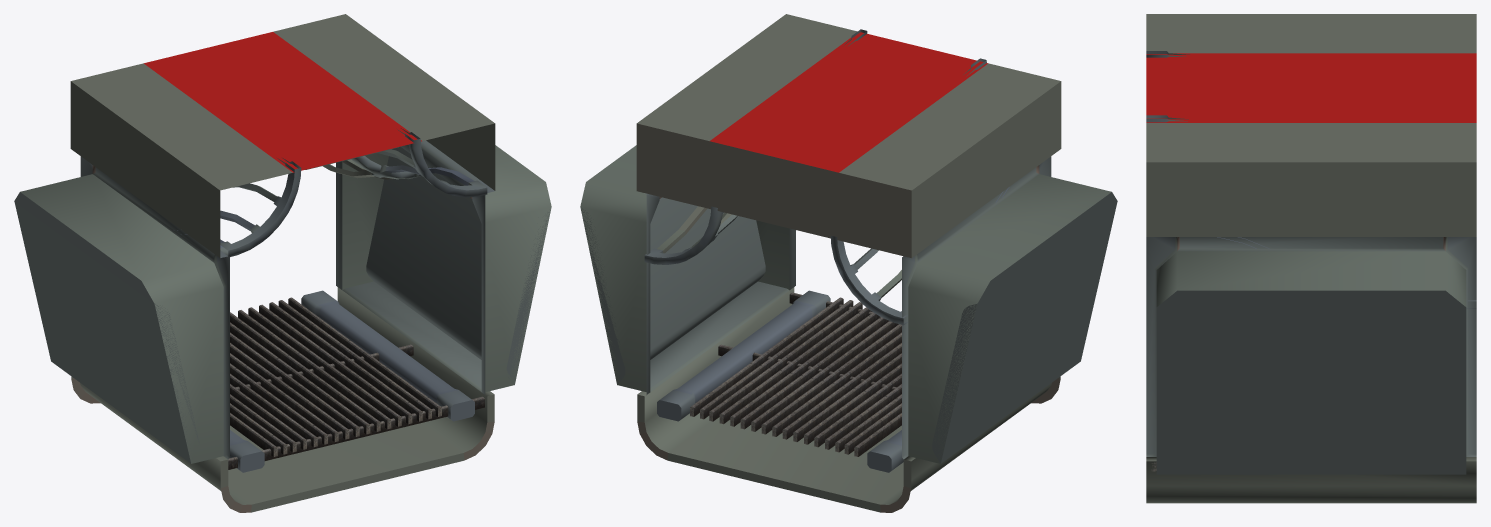
File: maintenance_tunnel_end_plain.dae
The picture shows the model from 3 angles, left to right: view 1: azimuth 30°, elevation 25°; view 2: azimuth 150°, elevation 25°; view 3: azimuth 270°, elevation 25°; orthographic projection. The views are drawn at different scales.
Parts seen in each view (by area): view 1: tunnel_plain_end, grate; view 2: tunnel_plain_end, grate; view 3: tunnel_plain_end.
Boxes of the visible parts, x1,y1,x2,y2 form: tunnel_plain_end: (14, 14, 551, 512); grate: (228, 297, 484, 469); tunnel_plain_end: (580, 14, 1117, 512); grate: (690, 292, 901, 456); tunnel_plain_end: (1146, 14, 1476, 503).
Size of what is drawn, in the model's own units: 3.12 by 2.45 by 2.
